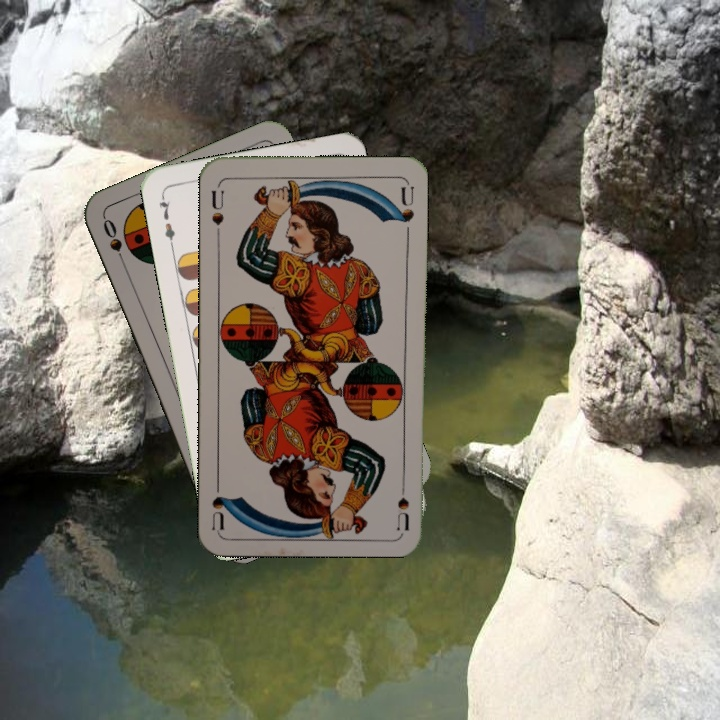E7: (154, 191, 178, 249)
SO: (99, 214, 129, 271)
SU: (393, 471, 412, 531), (207, 181, 226, 240)
